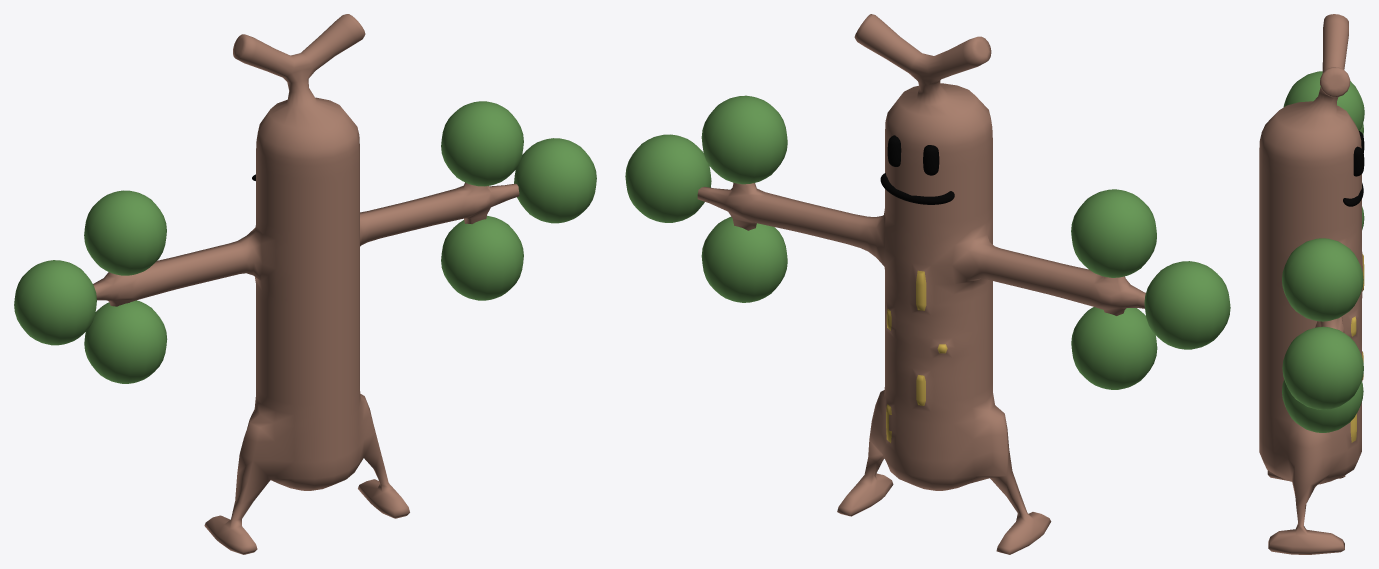
File: mogelei2.glb
3 views of the same model, side by side, from view 1: azimuth 30°, elevation 25°; view 2: azimuth 150°, elevation 25°; view 3: azimuth 270°, elevation 25° (orthographic). The views are drawn at different scales.
Parts seen in each view (by area): view 1: Cylinder001, Blätter; view 2: Cylinder001, Blätter, Cylinder001_1, Augen; view 3: Cylinder001, Blätter, Augen, Cylinder001_1, Mund.
Part boxes in pixels (x1,y1,x2,y2): Cylinder001: [93, 14, 519, 554]; Blätter: [14, 101, 596, 383]; Cylinder001: [697, 14, 1145, 554]; Blätter: [625, 95, 1230, 389]; Cylinder001_1: [886, 270, 947, 442]; Augen: [887, 135, 939, 175]; Cylinder001: [1259, 14, 1362, 554]; Blätter: [1282, 71, 1364, 432]; Augen: [1353, 131, 1364, 176]; Cylinder001_1: [1350, 254, 1364, 442]; Mund: [1343, 183, 1363, 206].
Size of the model in its own units: 5.65 by 4.63 by 0.9244.
